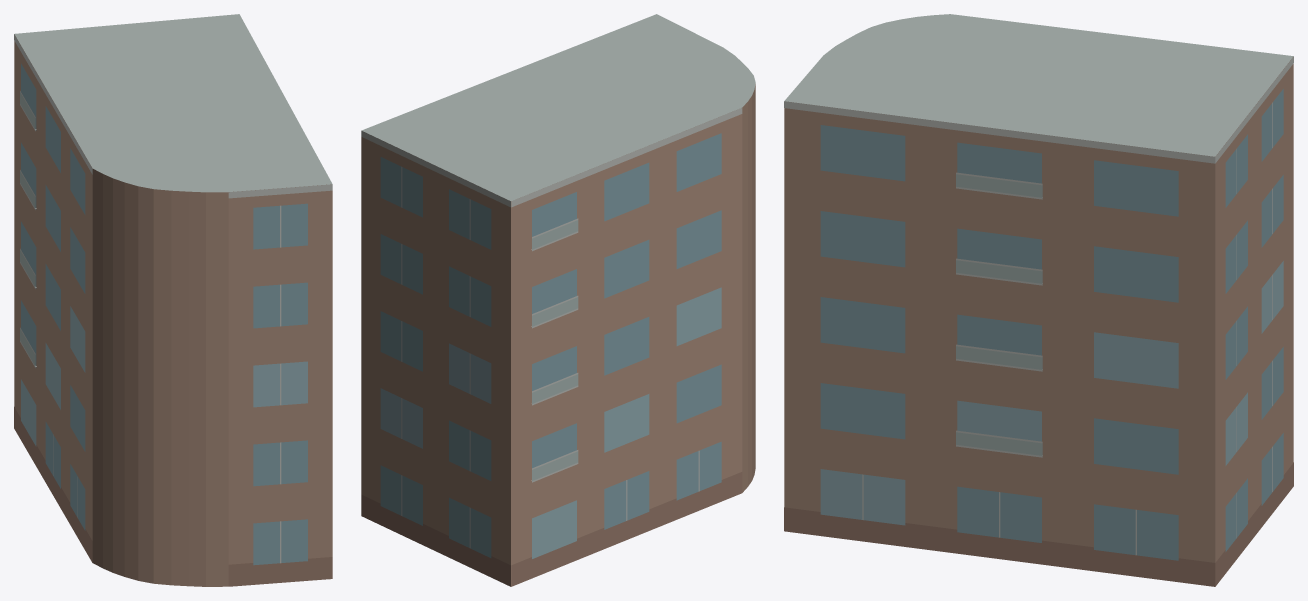
The model's file is survey-upis-32954747.glb.
The picture shows the model from 3 angles, left to right: view 1: azimuth 30°, elevation 25°; view 2: azimuth 150°, elevation 25°; view 3: azimuth 270°, elevation 25°; orthographic projection. The views are drawn at different scales.
Parts seen in each view (by area): view 1: survey-upis-32954747.tmp; view 2: survey-upis-32954747.tmp; view 3: survey-upis-32954747.tmp.
Boxes of the visible parts, left/top/right/bottom form: survey-upis-32954747.tmp: left=14, top=14, right=332, bottom=586; survey-upis-32954747.tmp: left=361, top=14, right=755, bottom=586; survey-upis-32954747.tmp: left=784, top=14, right=1293, bottom=586.
Bounding box in the file's own units: 10.83 × 15.2 × 16.33.
